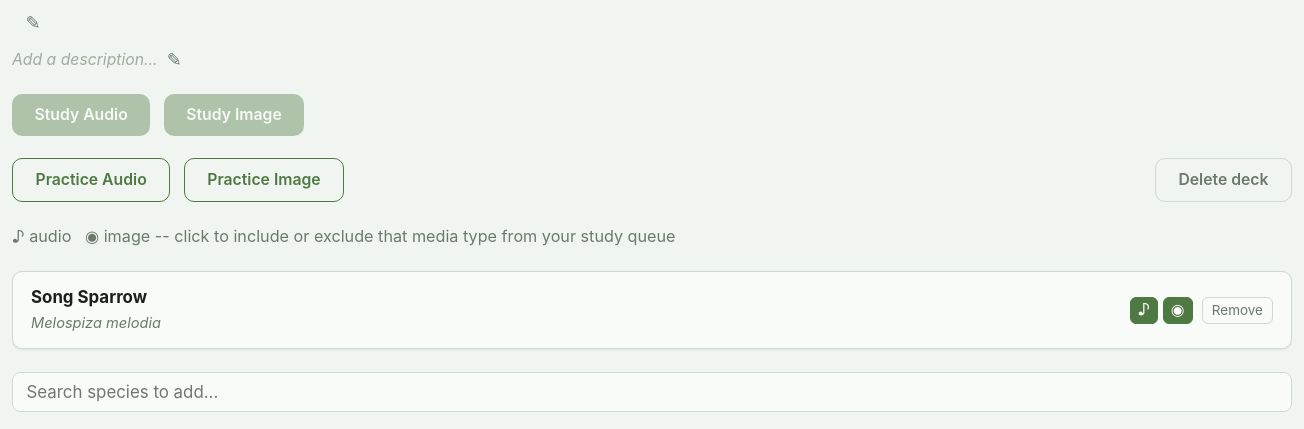
Test: Deck detail page › removes species from deck on Remove click
The width and height of the screenshot is (1304, 429).
Click the button "Remove": (1237, 310) [1202,297,1273,324]
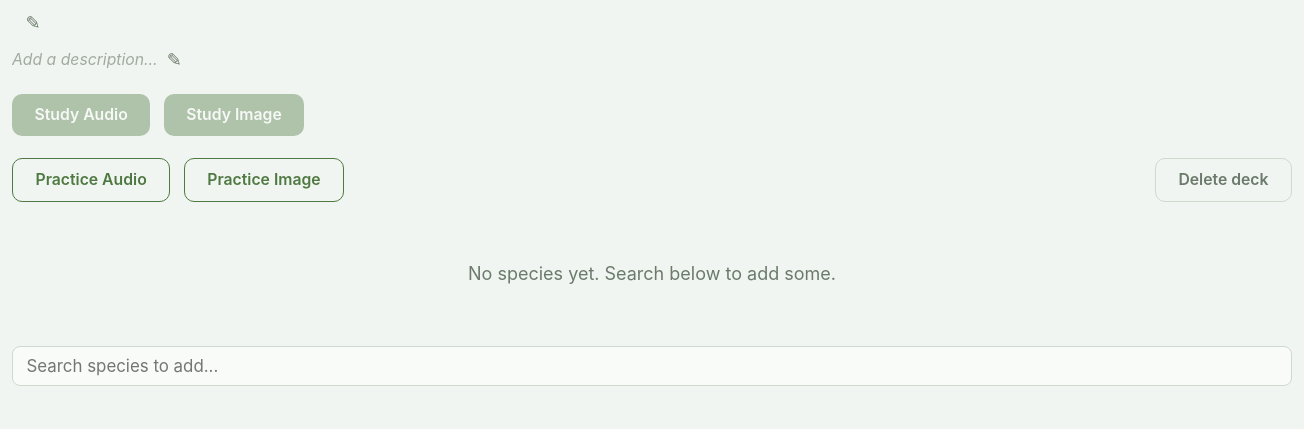
Now the link "Song Sparrow" is gone
